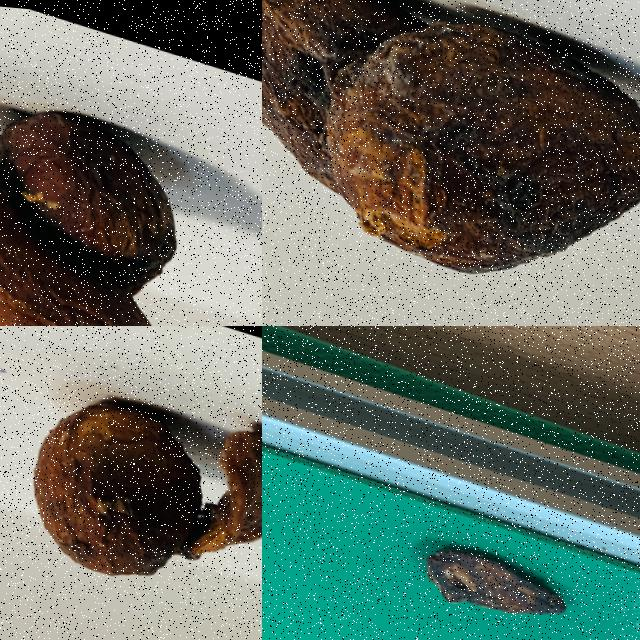Agglomerated_cocoabeans: (262, 0, 639, 325), (0, 11, 261, 325), (0, 326, 261, 639)
Flat_cocoabeans: (341, 487, 619, 639)
